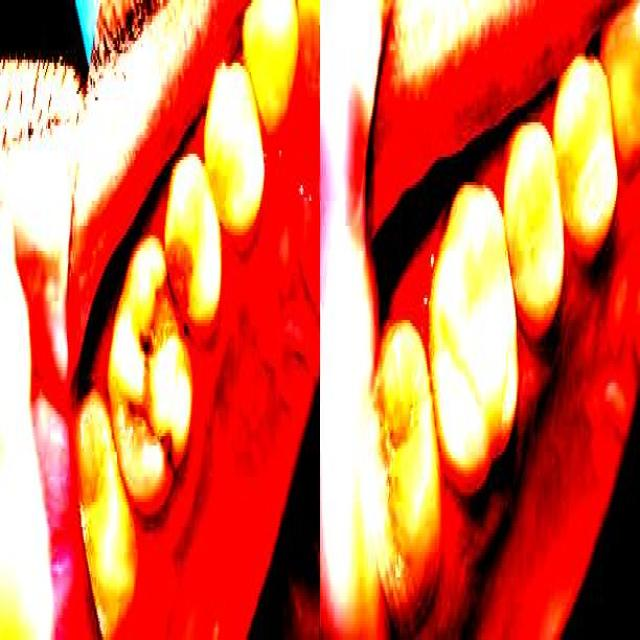caries: (136, 303, 170, 392), (157, 414, 178, 500), (122, 388, 148, 455), (175, 305, 201, 370)
